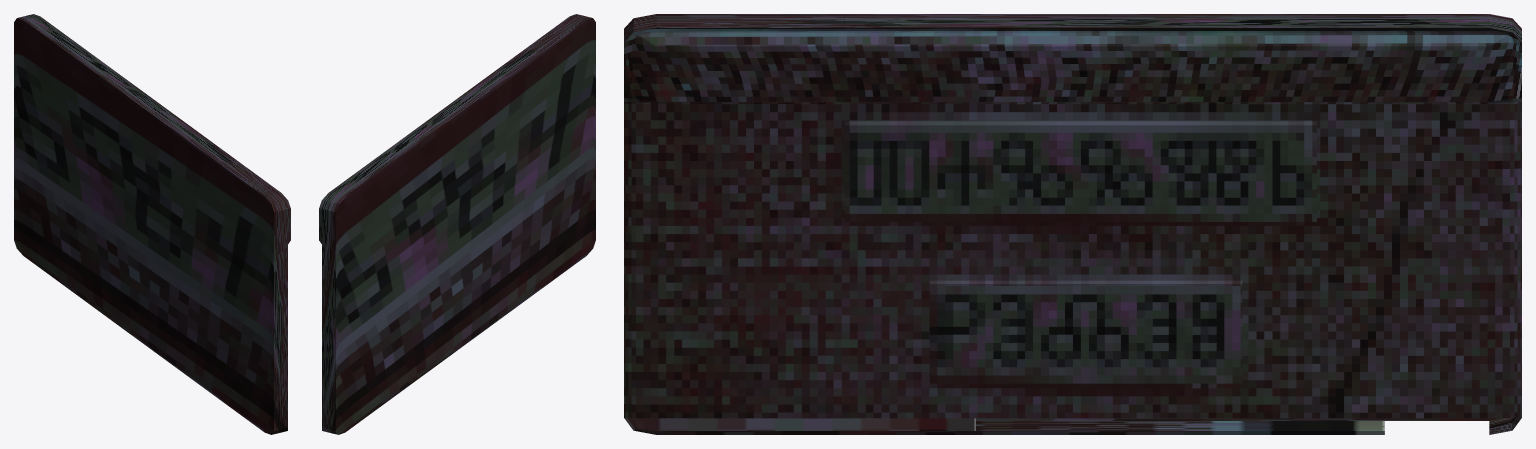
File: CatBascancskaPloca.obj
3 views of the same model, side by side, from view 1: azimuth 30°, elevation 25°; view 2: azimuth 150°, elevation 25°; view 3: azimuth 270°, elevation 25° (orthographic). The views are drawn at different scales.
Parts seen in each view (by area): view 1: Cube; view 2: Cube; view 3: Cube.
Boxes of the visible parts, <box> form: Cube: <box>14,14,290,434</box>; Cube: <box>319,14,595,434</box>; Cube: <box>624,14,1521,434</box>.
Bounding box in the file's own units: 0.00963 × 0.1 × 0.2.
Materials: 1 (1 with a texture image).
